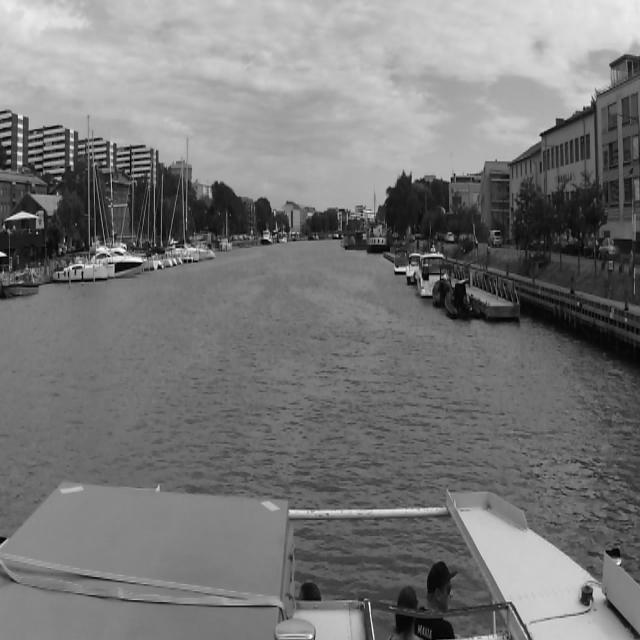ship: (52, 114, 108, 284), (365, 188, 387, 254), (445, 279, 475, 322), (416, 242, 436, 300), (340, 231, 366, 252), (392, 249, 407, 276), (407, 252, 417, 287), (261, 226, 274, 244), (278, 224, 288, 243), (307, 231, 315, 241), (294, 235, 300, 242), (316, 231, 320, 241)
